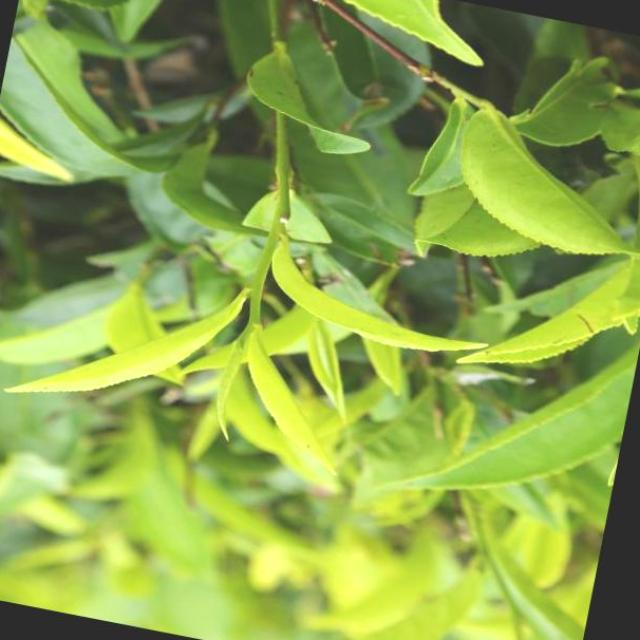Stem: (247, 257, 271, 292), (444, 80, 459, 94)
